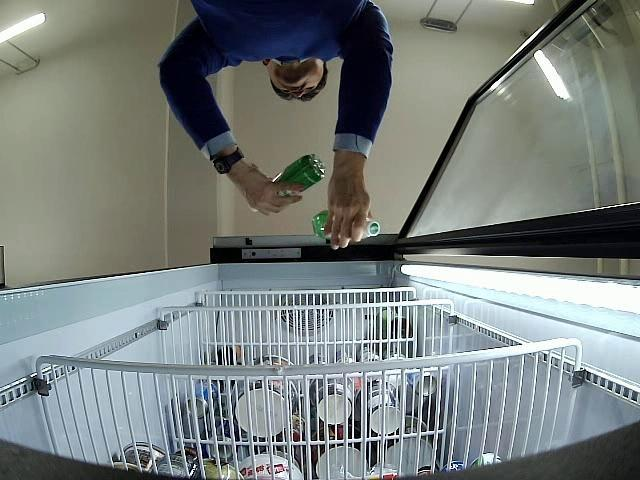18_trevi: (248, 154, 326, 212), (312, 210, 380, 243)
